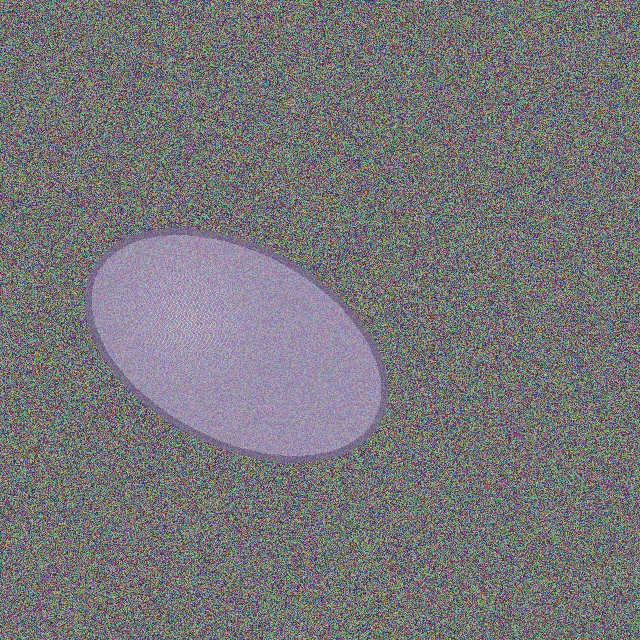lens: (88, 231, 384, 459)
